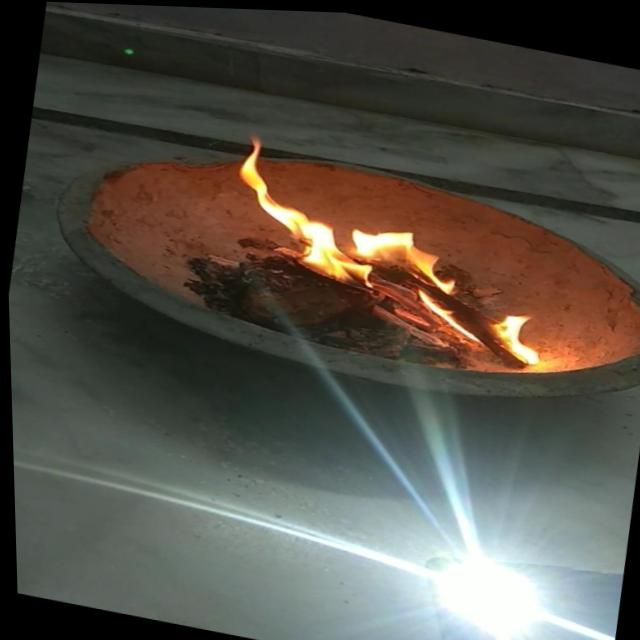fire: (201, 129, 478, 308), (484, 304, 553, 364)
